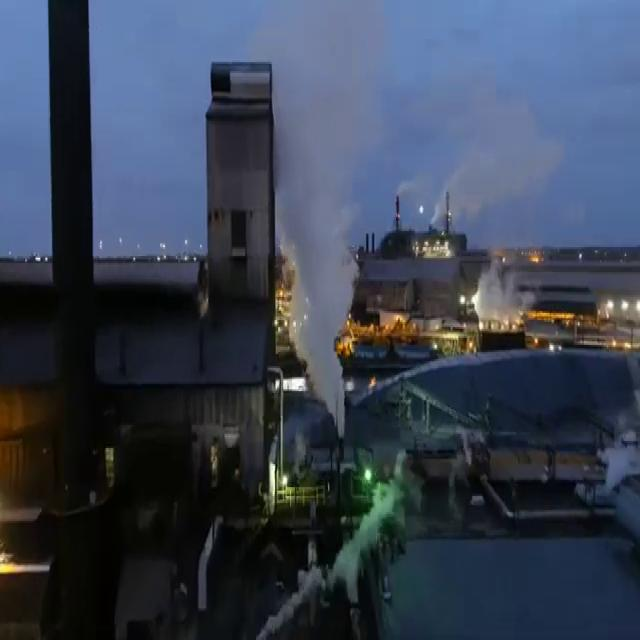smoke: (267, 36, 364, 432), (403, 62, 546, 233), (476, 251, 564, 340)
